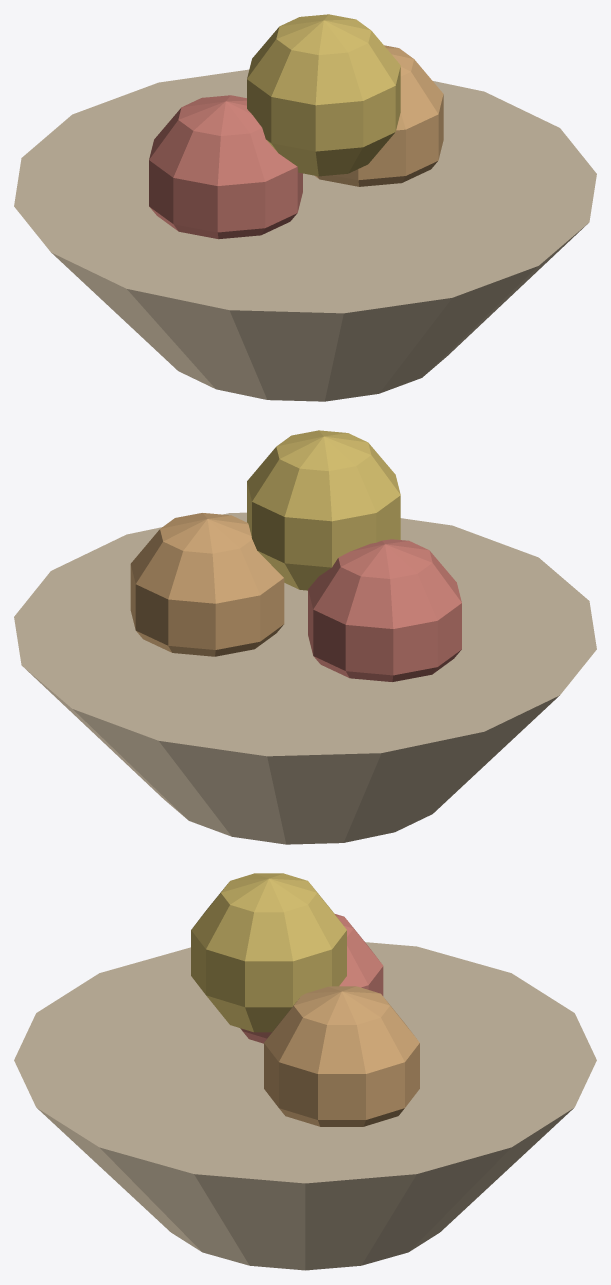
Rendered from kit_sub_frutas.glb.
3 views of the same model, one above another, from view 1: azimuth 30°, elevation 25°; view 2: azimuth 150°, elevation 25°; view 3: azimuth 270°, elevation 25° (orthographic).
Parts seen in each view (by area): view 1: KIT_Sub_Frutas_v01; view 2: KIT_Sub_Frutas_v01; view 3: KIT_Sub_Frutas_v01.
Boxes of the visible parts, left/top/right/bottom form: KIT_Sub_Frutas_v01: left=14, top=14, right=596, bottom=401; KIT_Sub_Frutas_v01: left=14, top=430, right=596, bottom=844; KIT_Sub_Frutas_v01: left=14, top=873, right=596, bottom=1270.
Size of the model in its own units: 0.32 by 0.2 by 0.32.
